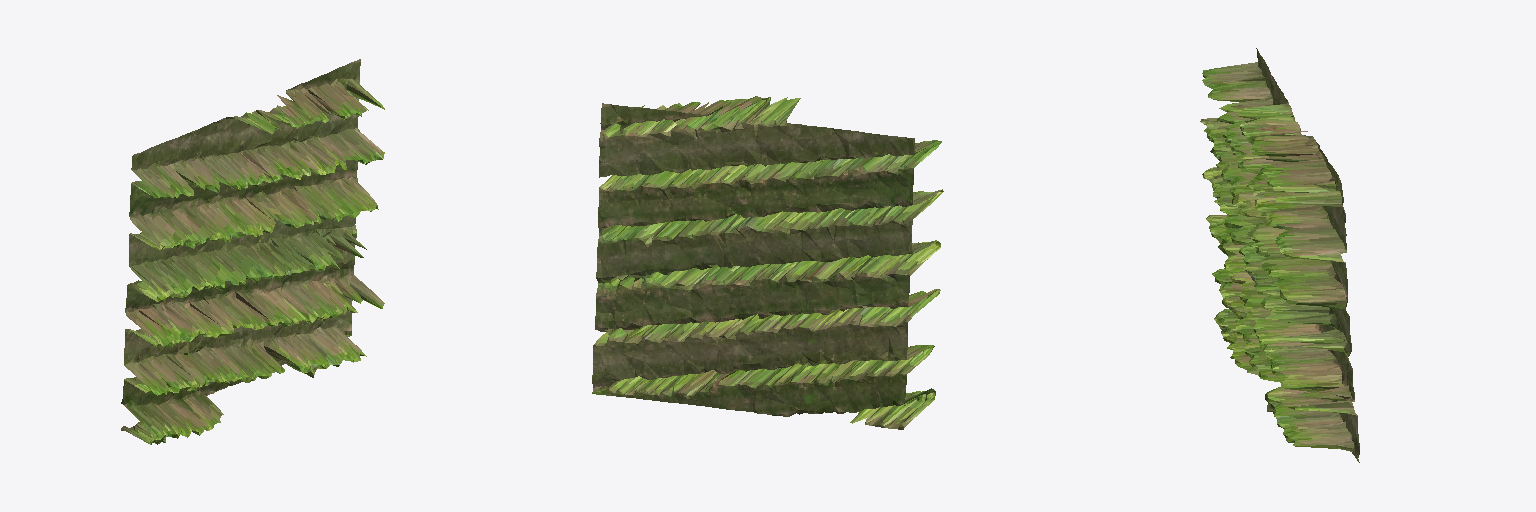
3 views of the same model, side by side, from view 1: azimuth 30°, elevation 25°; view 2: azimuth 150°, elevation 25°; view 3: azimuth 270°, elevation 25° (orthographic).
Visible parts, largest first — view 1: grp1; view 2: grp1; view 3: grp1.
Boxes of the visible parts, x1,y1,x2,y2 form: grp1: [121, 59, 384, 444]; grp1: [592, 96, 943, 429]; grp1: [1200, 48, 1359, 462].
Size of the model in its own units: 10 by 10 by 5.12.
1 materials, 1 textured.